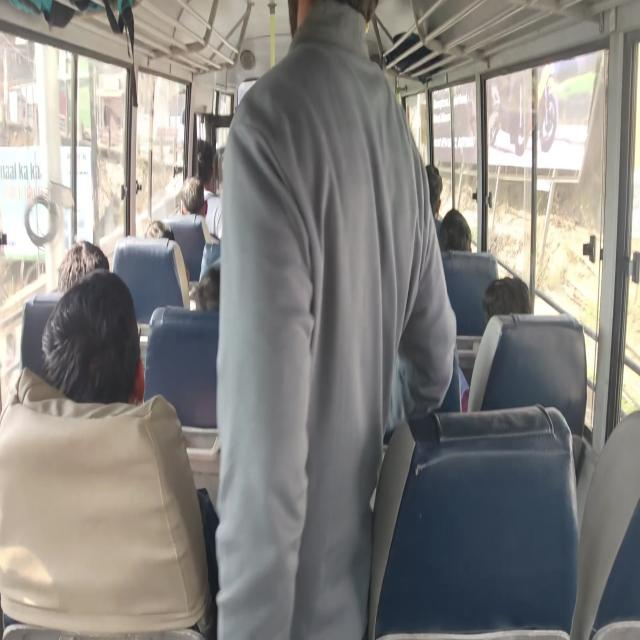person: (214, 0, 461, 638), (0, 268, 215, 638), (41, 268, 145, 404), (57, 239, 109, 295), (196, 138, 223, 240), (482, 275, 533, 322), (438, 208, 472, 252), (196, 259, 220, 312), (179, 176, 206, 216), (424, 164, 442, 221)
